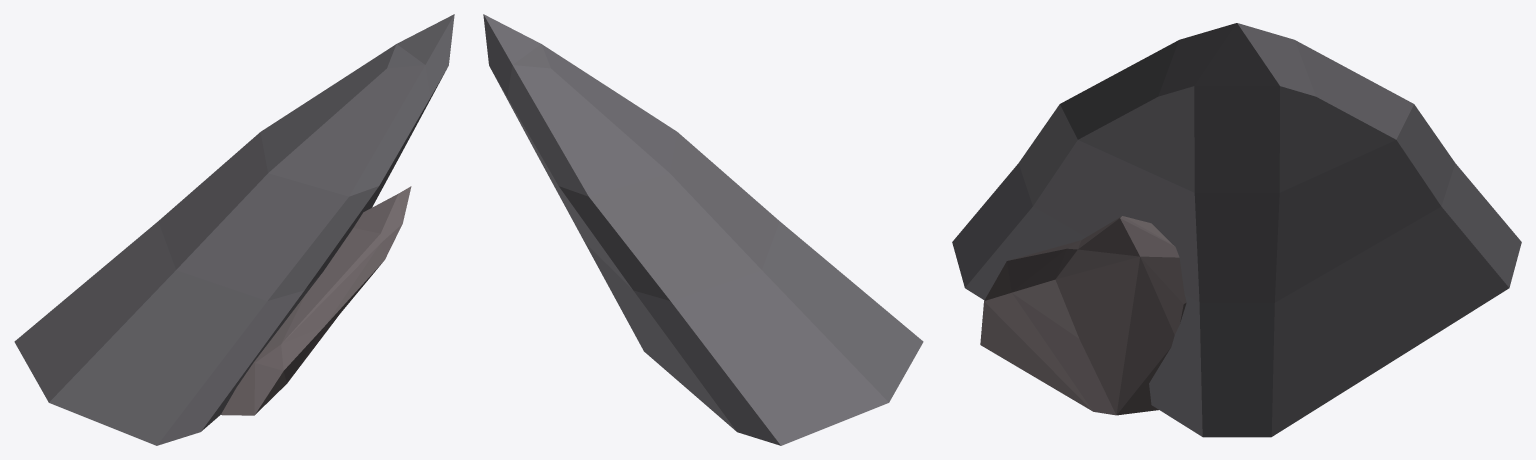
The model's file is Rocks_Sharp_l_02.fbx.
3 views of the same model, side by side, from view 1: azimuth 30°, elevation 25°; view 2: azimuth 150°, elevation 25°; view 3: azimuth 270°, elevation 25° (orthographic). The views are drawn at different scales.
Parts seen in each view (by area): view 1: Rocks_Sharp_l_02; view 2: Rocks_Sharp_l_02; view 3: Rocks_Sharp_l_02.
Boxes of the visible parts, <box> form: Rocks_Sharp_l_02: <box>14,14,454,445</box>; Rocks_Sharp_l_02: <box>483,14,923,445</box>; Rocks_Sharp_l_02: <box>952,23,1521,437</box>.
Size of the model in its own units: 1028 by 712 by 625.
